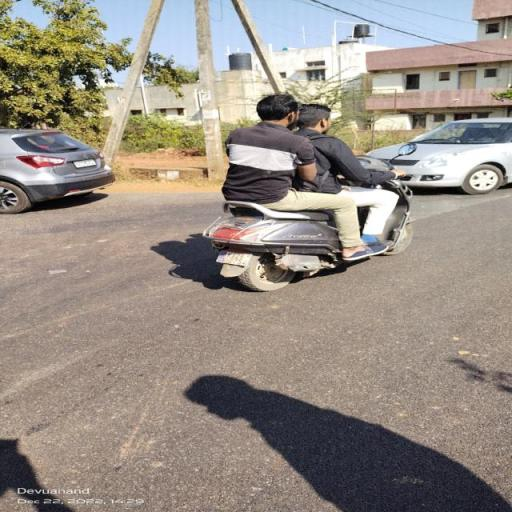bike: (198, 94, 419, 290)
numberplate: (218, 248, 251, 272)
withouthelmet: (256, 96, 298, 123), (300, 104, 330, 129)
